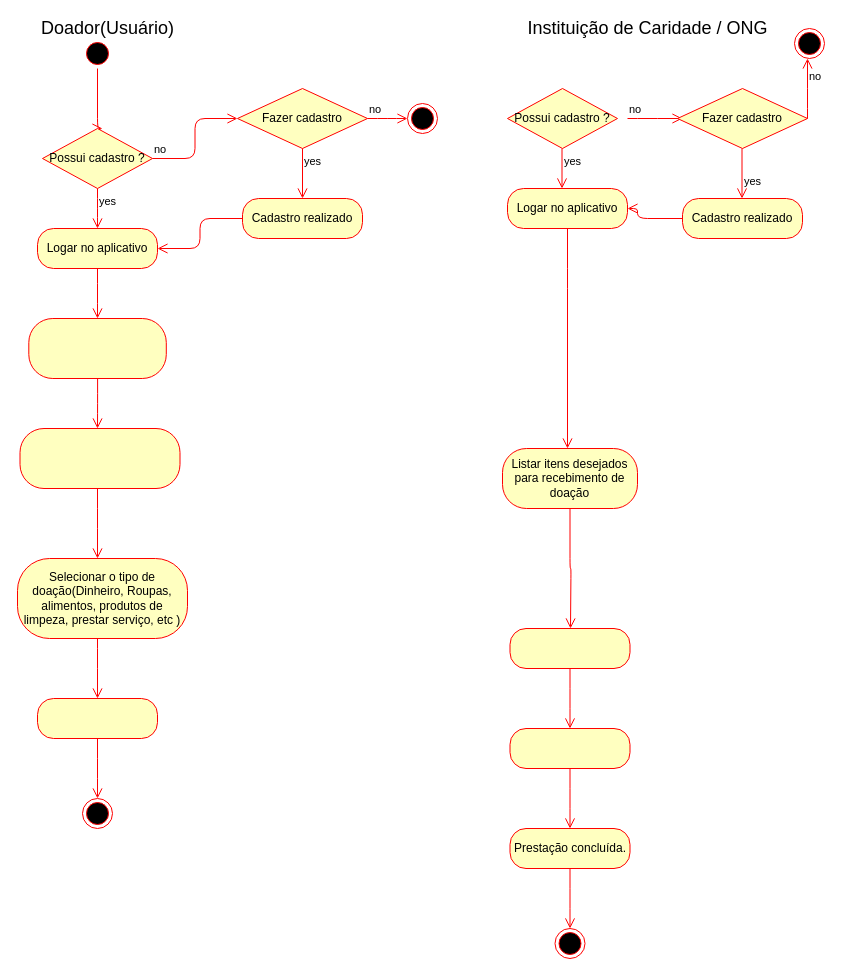
The diagram is 842 pixels wide and 976 high, and some of its shapes have lost their labels. Here are the shapes that lost their labels. From the top down, the centre of each, then its label:
[97,348]: Procurar instituição/ONG
[99,458]: Selecionar Instituição/ONG
[569,648]: Receber doação
[97,718]: Concluir doação
[569,748]: Prestar conta de doação recebida.
